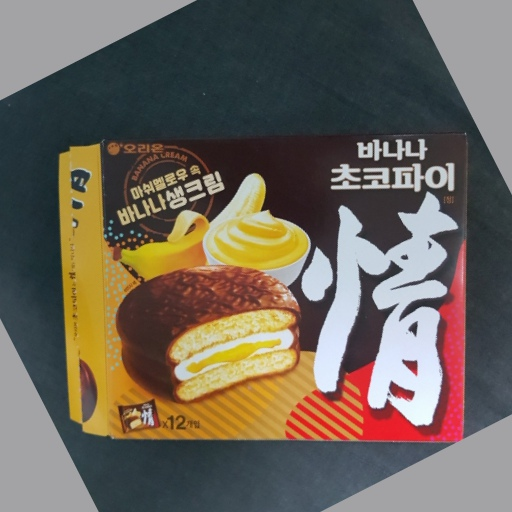Paper_0: (47, 131, 474, 447)
